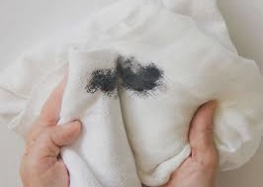ink: (87, 63, 162, 95)
